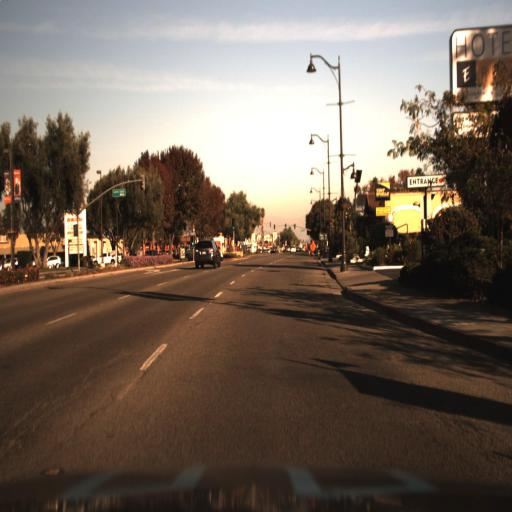car: (192, 234, 225, 270), (41, 251, 65, 276), (92, 248, 117, 267), (91, 249, 120, 265), (41, 256, 60, 272)
trafficLight-Green: (186, 233, 196, 254)
